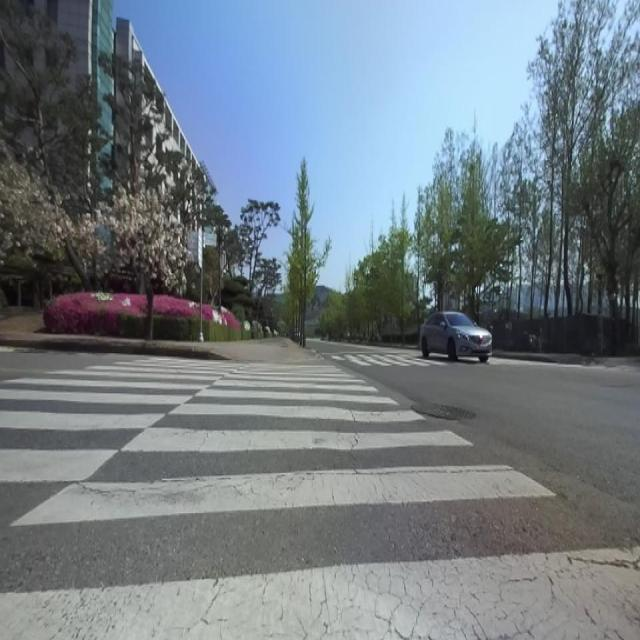sidewalk: (0, 329, 321, 363)
